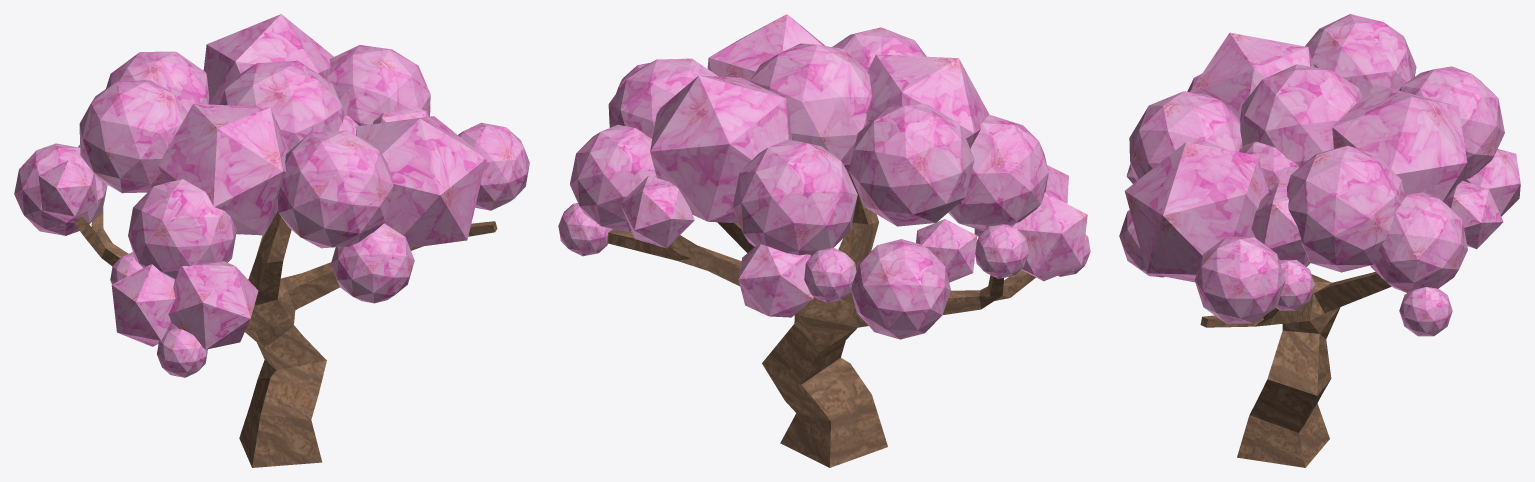
The model's file is cherry blossom tree A (UPD).fbx.
The picture shows the model from 3 angles, left to right: view 1: azimuth 30°, elevation 25°; view 2: azimuth 150°, elevation 25°; view 3: azimuth 270°, elevation 25°; orthographic projection. The views are drawn at different scales.
Parts seen in each view (by area): view 1: Icosphere_001; view 2: Icosphere_001; view 3: Icosphere_001.
Boxes of the visible parts, bbox=[...] form: Icosphere_001: bbox=[14, 14, 529, 467]; Icosphere_001: bbox=[558, 14, 1090, 467]; Icosphere_001: bbox=[1119, 14, 1520, 467].
Size of the model in its own units: 47.72 by 40.87 by 38.84.
2 materials, 2 textured.
